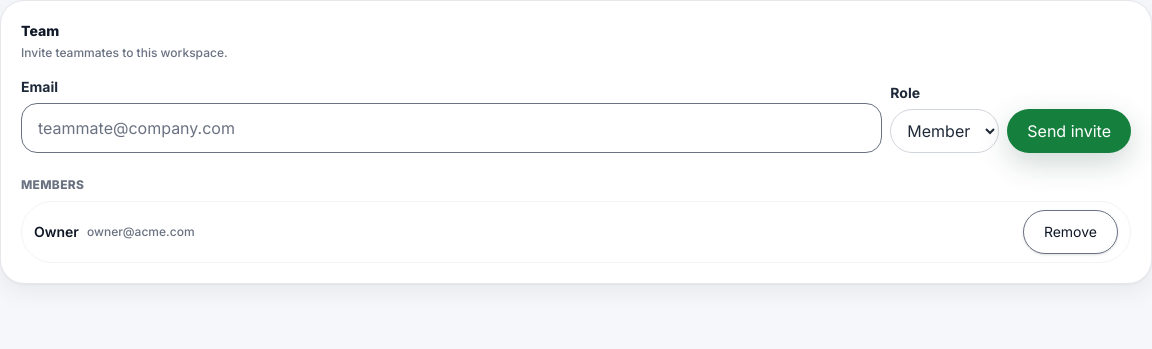
Test: TeamCard › shows the backend error when removal is rejected
The image size is (1152, 349).
expect the text "Owner" is shown: met, box [34,222,79,242]
What coordinates should you click on to do the following:
click the button "Remove"
I would click on:
 (1070, 232)
Its box is [1023,210,1118,254].
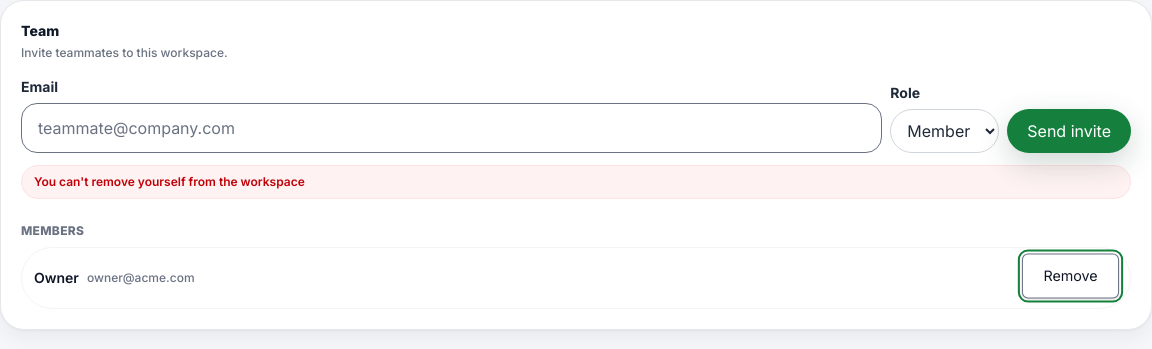
expect the text "You can't remove yourself from the workspace" is shown: met, box [21,165,1131,199]
